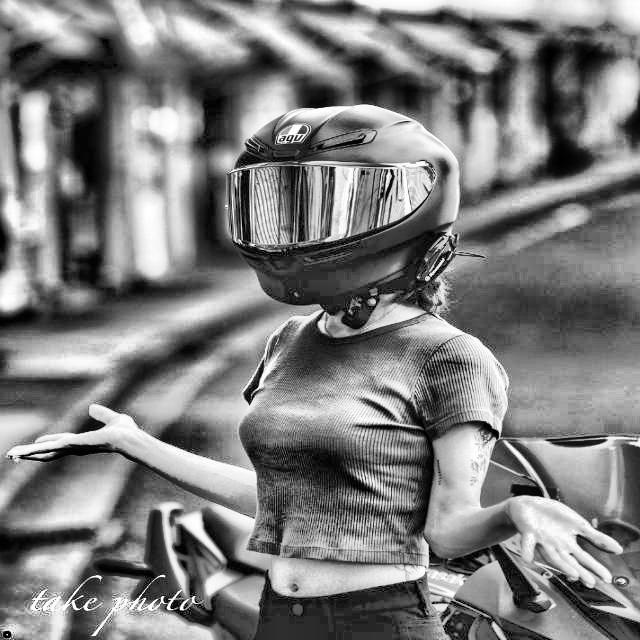Helmet: (215, 99, 466, 334)
